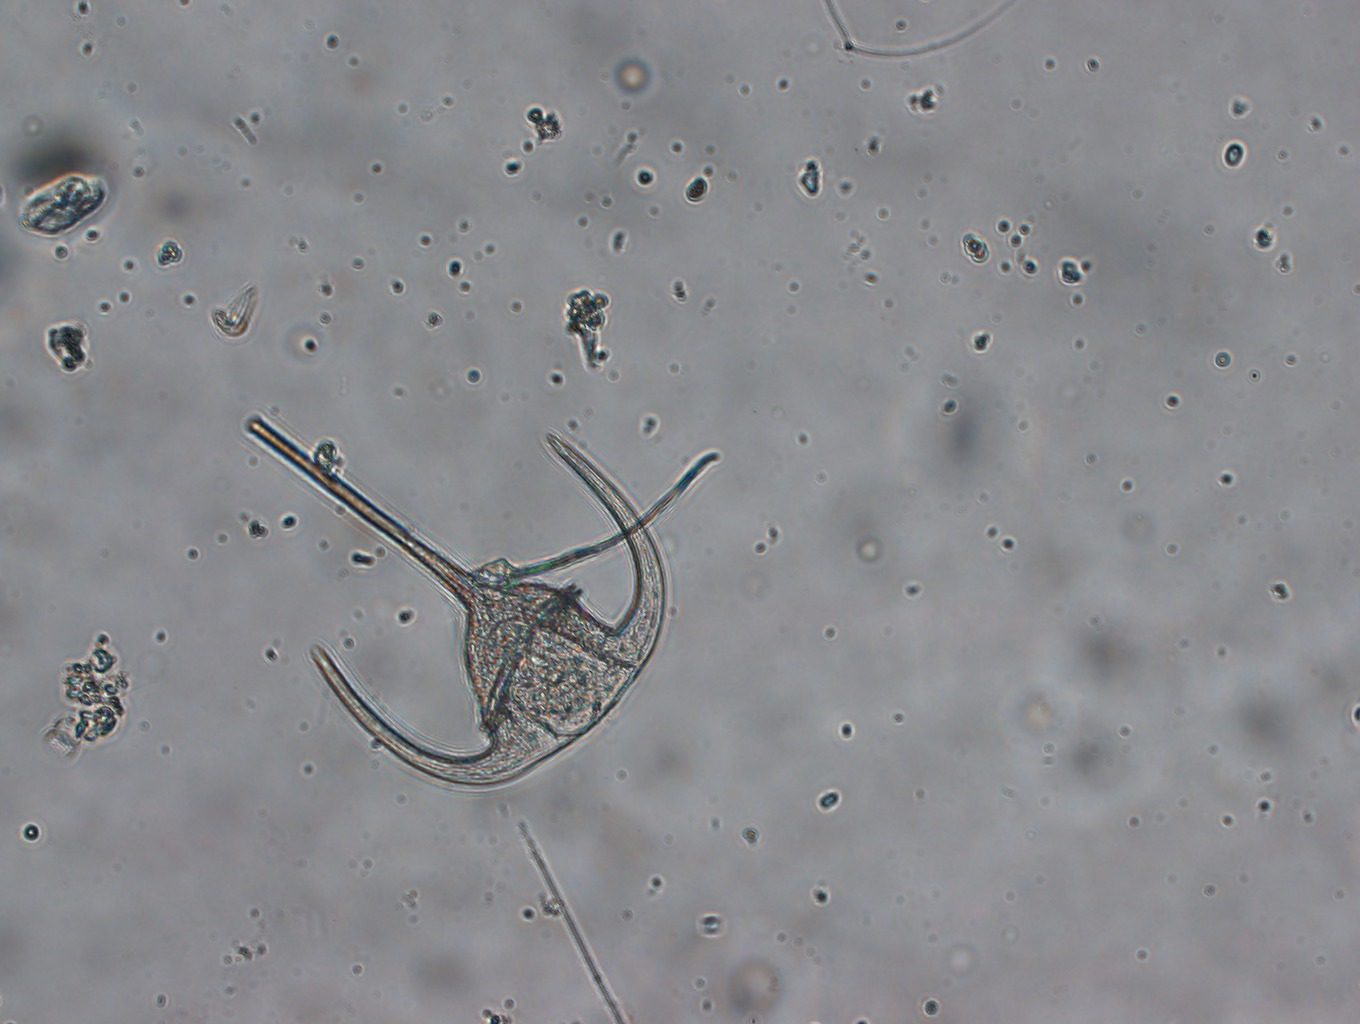ceratium tripos: (241, 411, 667, 793)
